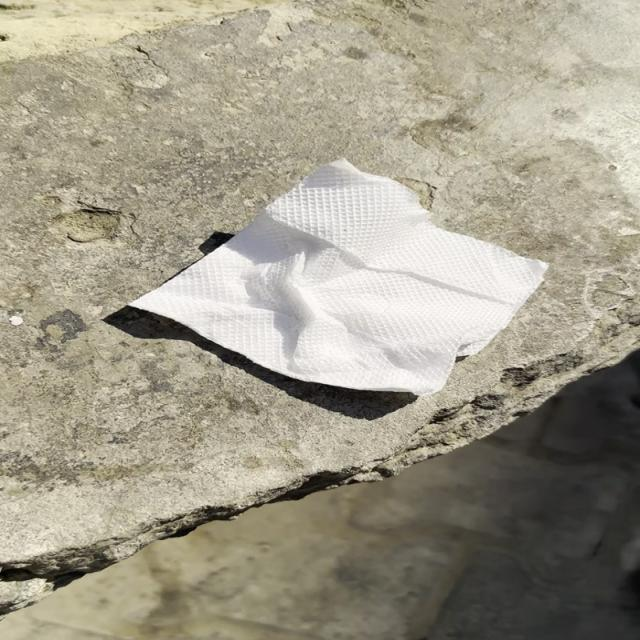tissue: (122, 151, 555, 398)
